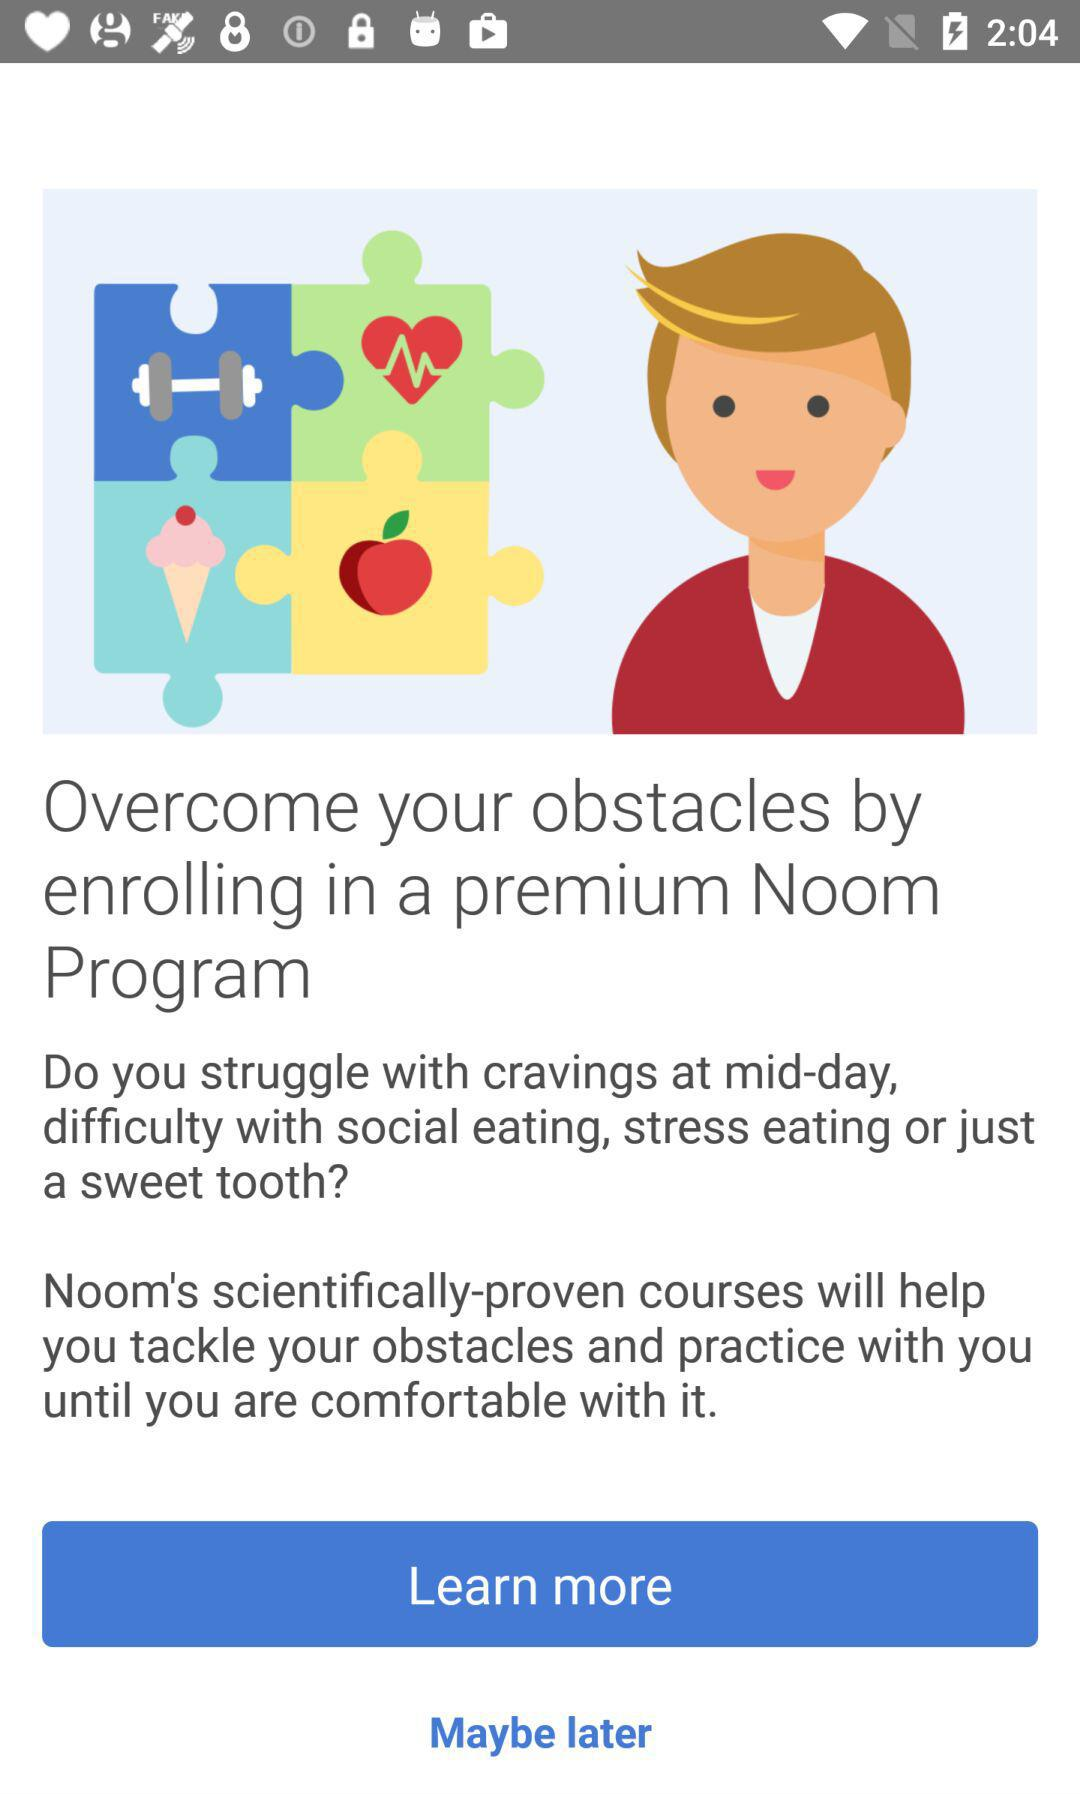Image: (44, 188, 1038, 736)
Text: (44, 777, 939, 1015), (42, 1271, 1033, 1429), (44, 1052, 1036, 1201), (430, 1715, 653, 1758)
TextButton: (42, 1520, 1039, 1648)
UpperTaskBar: (1, 1, 1080, 64)
